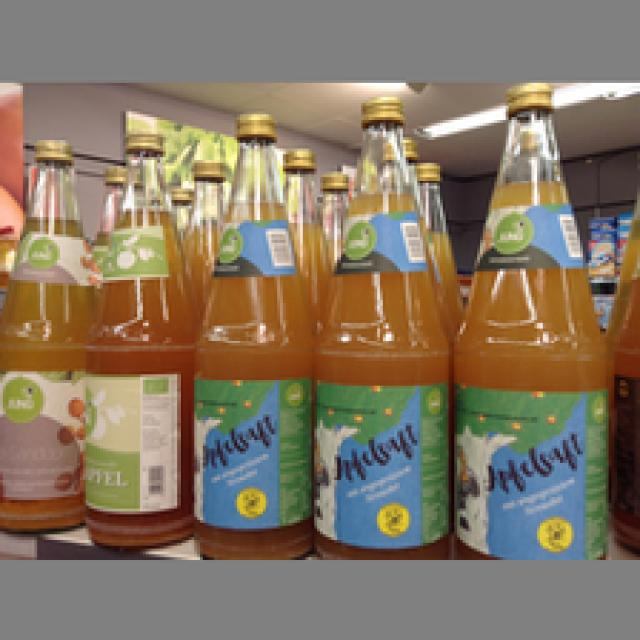groceries: (446, 80, 611, 554), (312, 91, 452, 552), (189, 109, 314, 554), (83, 128, 194, 548), (0, 134, 89, 532)
